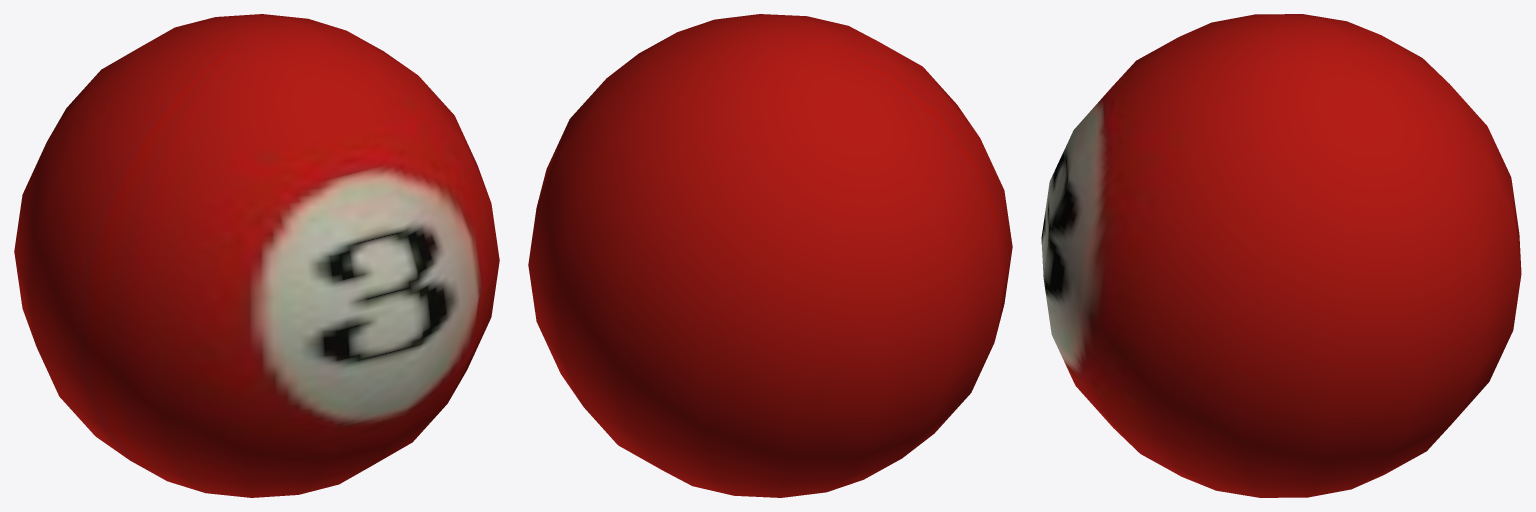
3 renders of one model, left to right at view 1: azimuth 30°, elevation 25°; view 2: azimuth 150°, elevation 25°; view 3: azimuth 270°, elevation 25°, orthographic.
Visible parts, largest first — view 1: bi_a_03; view 2: bi_a_03; view 3: bi_a_03.
Boxes of the visible parts, left/top/right/bottom form: bi_a_03: left=14, top=14, right=499, bottom=497; bi_a_03: left=528, top=14, right=1012, bottom=497; bi_a_03: left=1041, top=14, right=1521, bottom=497.
Size of the model in its own units: 12.94 by 13.13 by 12.94.
